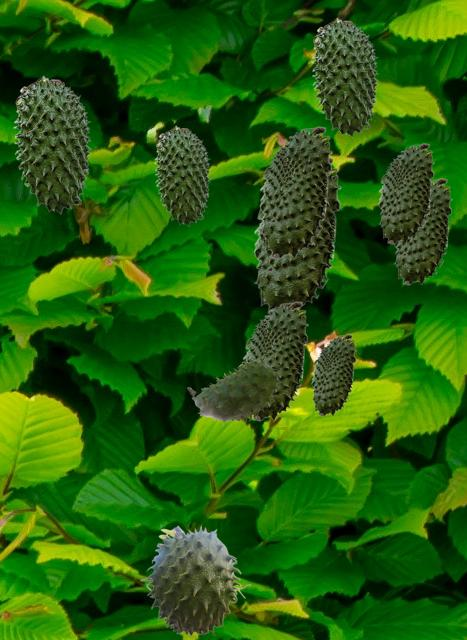guyabano: (253, 156, 340, 313), (140, 524, 250, 635), (13, 75, 91, 213), (259, 126, 331, 258), (311, 17, 378, 136), (242, 301, 307, 420), (393, 178, 451, 284), (187, 359, 278, 424), (154, 125, 210, 225), (378, 143, 433, 243), (311, 334, 355, 415)
